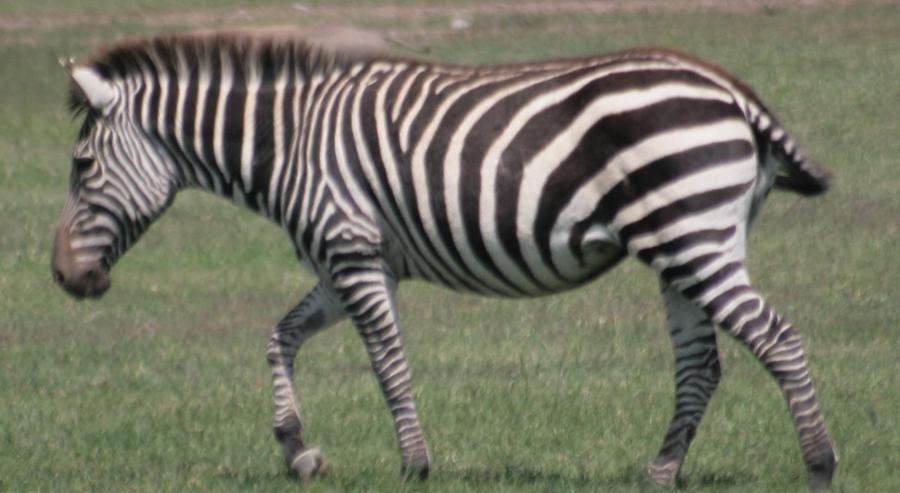zebra_plains: (247, 26, 786, 315)
